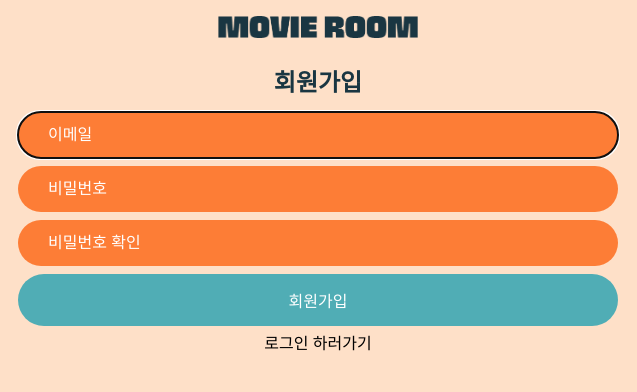
Test: signup page › should render 'invalidPw' error message
Type "1" into the password field with placeholder "비밀번호" at (318, 189), box [18,166,618,212]
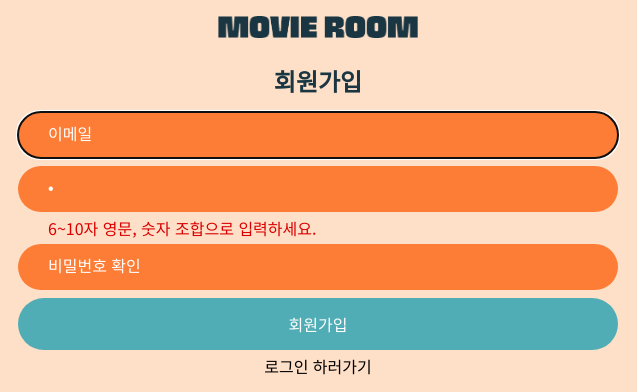
expect the text "6~10자 영문, 숫자 조합으로 입력하세요." is shown: met, box [48,216,316,240]
